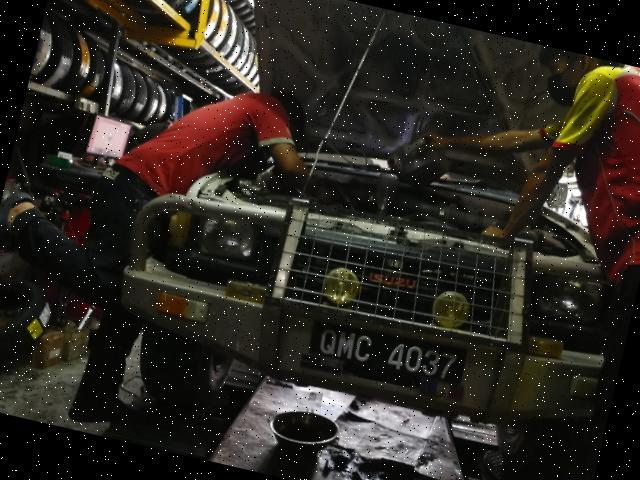License_Plate: (306, 317, 462, 391)
